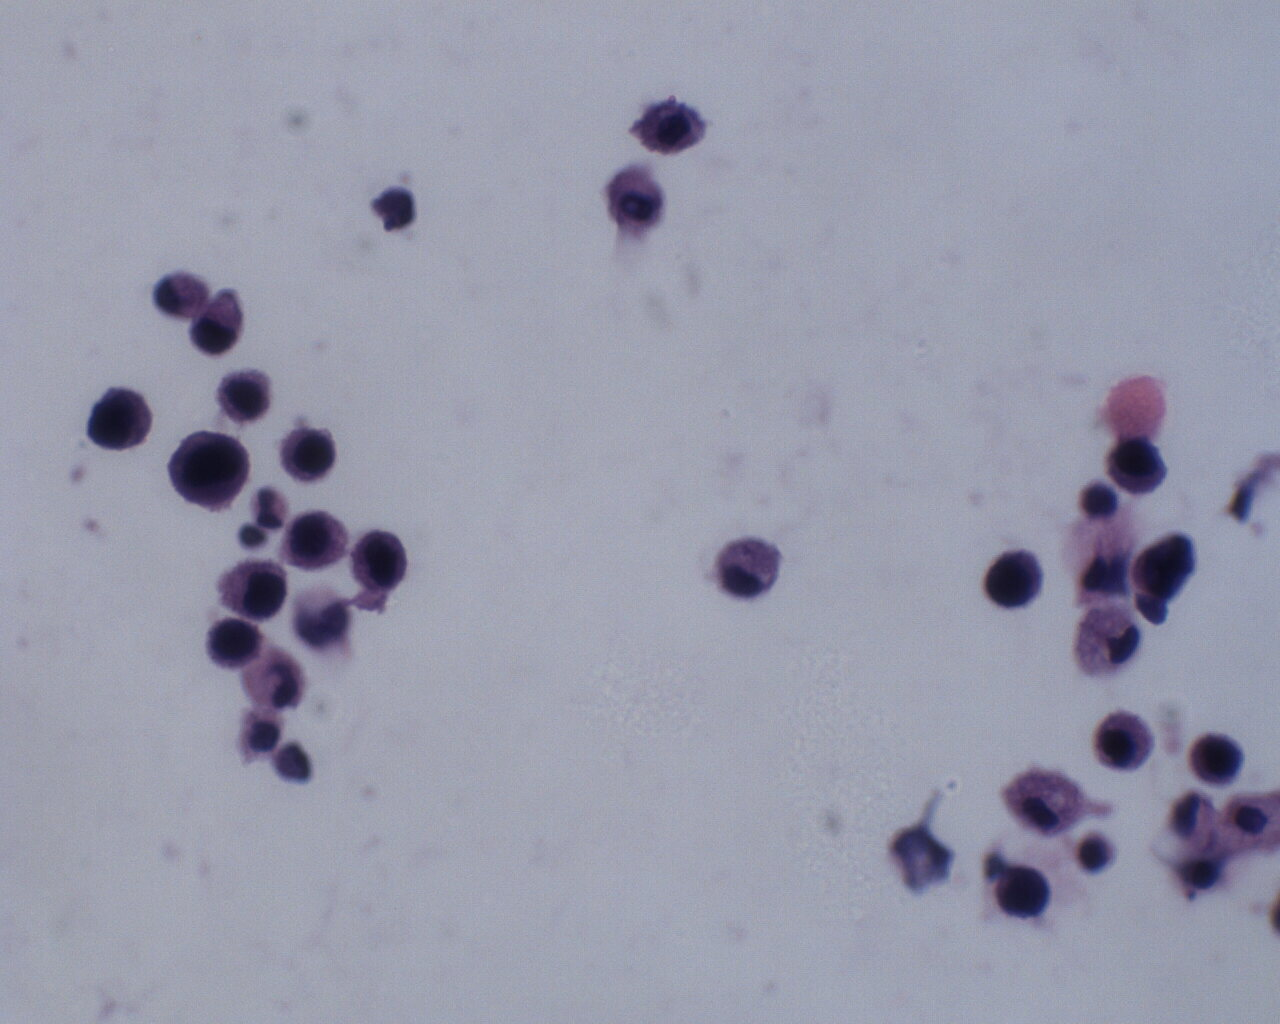ab: (168, 425, 251, 514), (82, 385, 154, 457), (1102, 434, 1176, 499), (217, 559, 289, 624), (1132, 527, 1197, 597), (346, 528, 414, 594), (278, 510, 348, 572), (209, 369, 280, 427), (983, 546, 1044, 610), (275, 424, 334, 487), (1189, 729, 1246, 788), (994, 863, 1051, 920), (205, 618, 263, 672)
histo: (1071, 600, 1145, 676), (716, 531, 785, 605)
